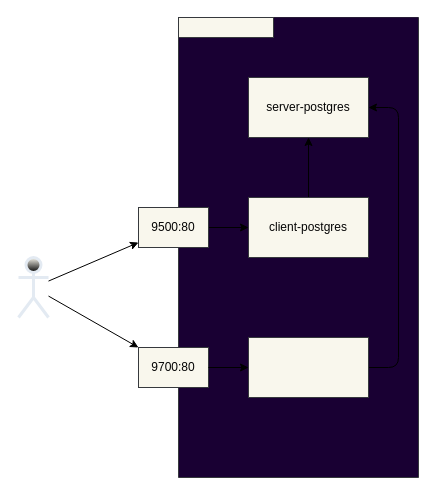
This 436x495 diagram has some shape labels left out. The centre of each missing label's shape, as x and y in pixels:
"net-drupal" belongs at (226,27).
"server-drupal" belongs at (308,367).
